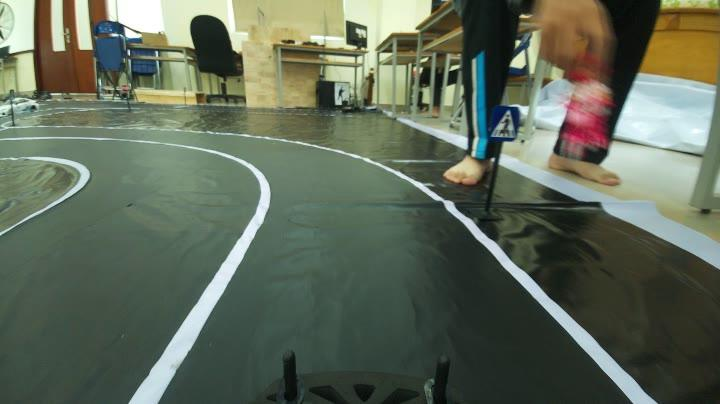crosswalk: (486, 104, 520, 142)
